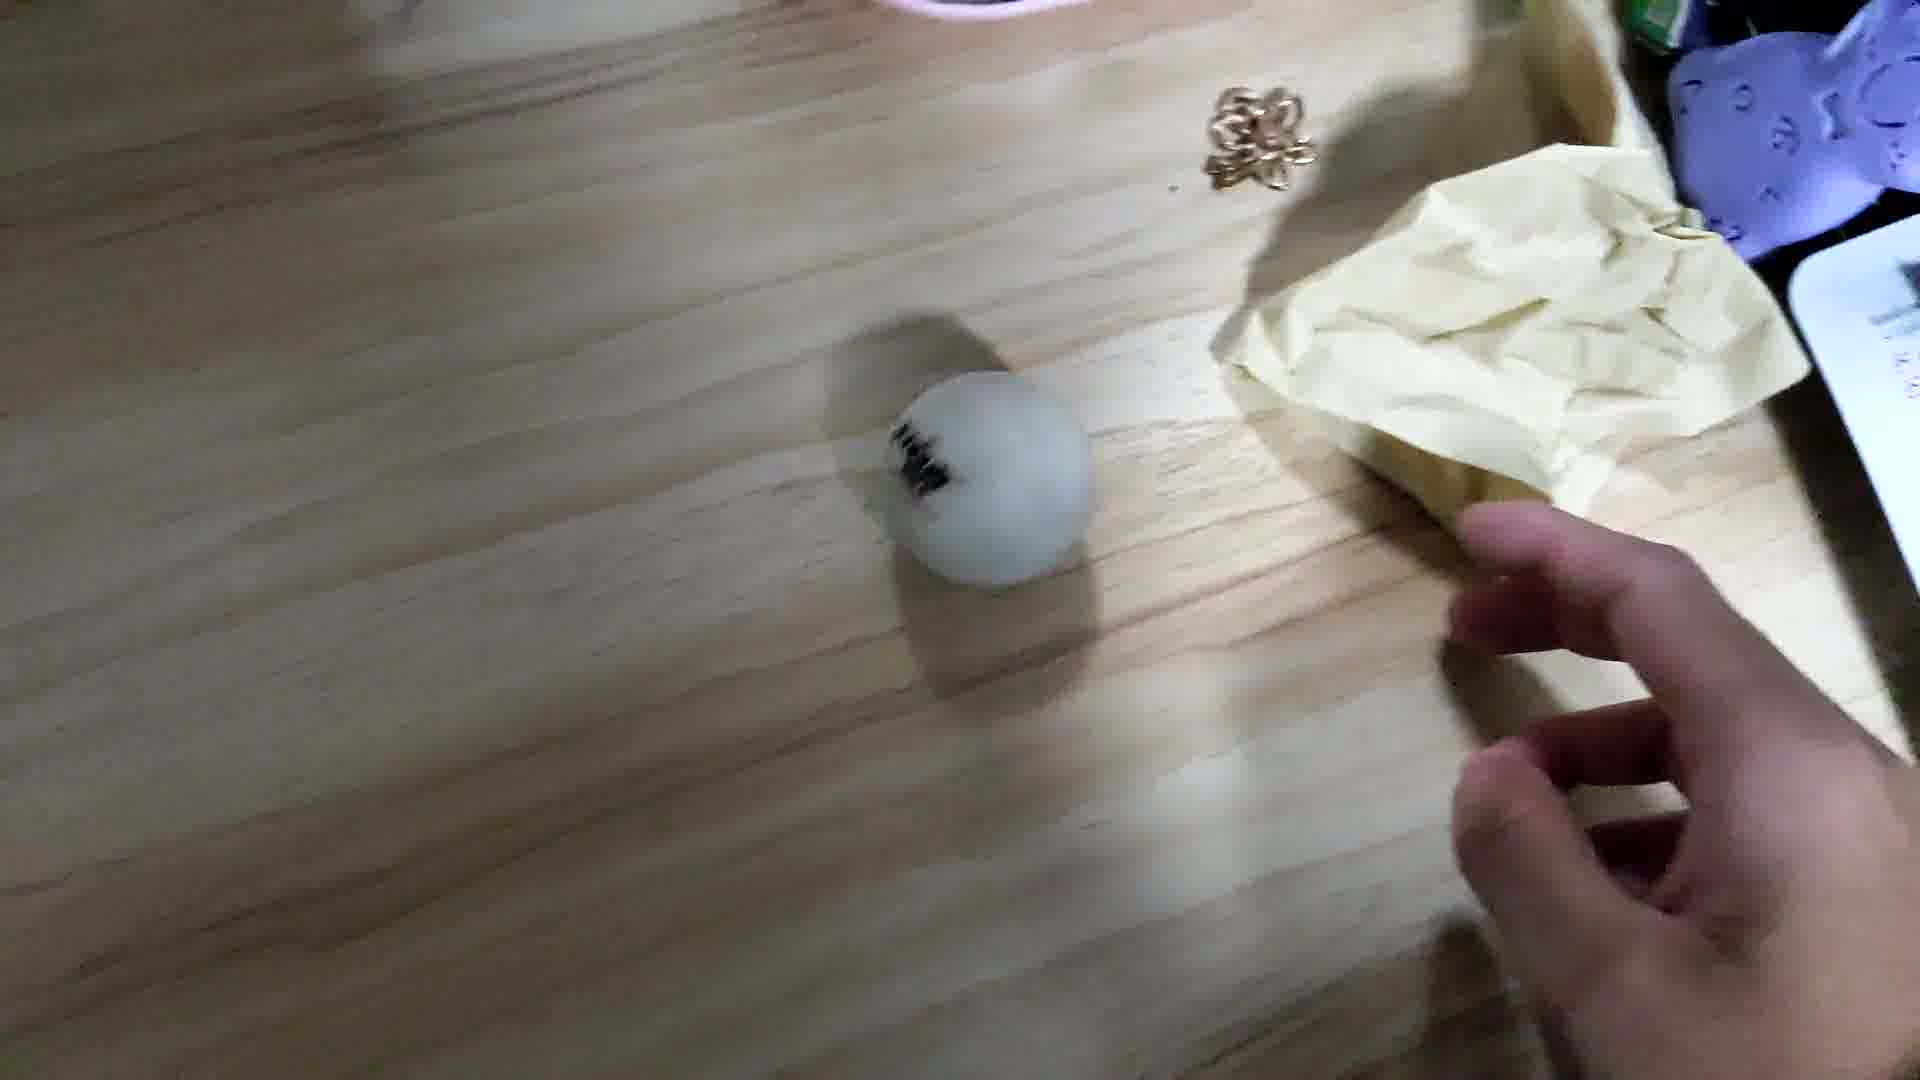Ball: (885, 367, 1098, 592)
